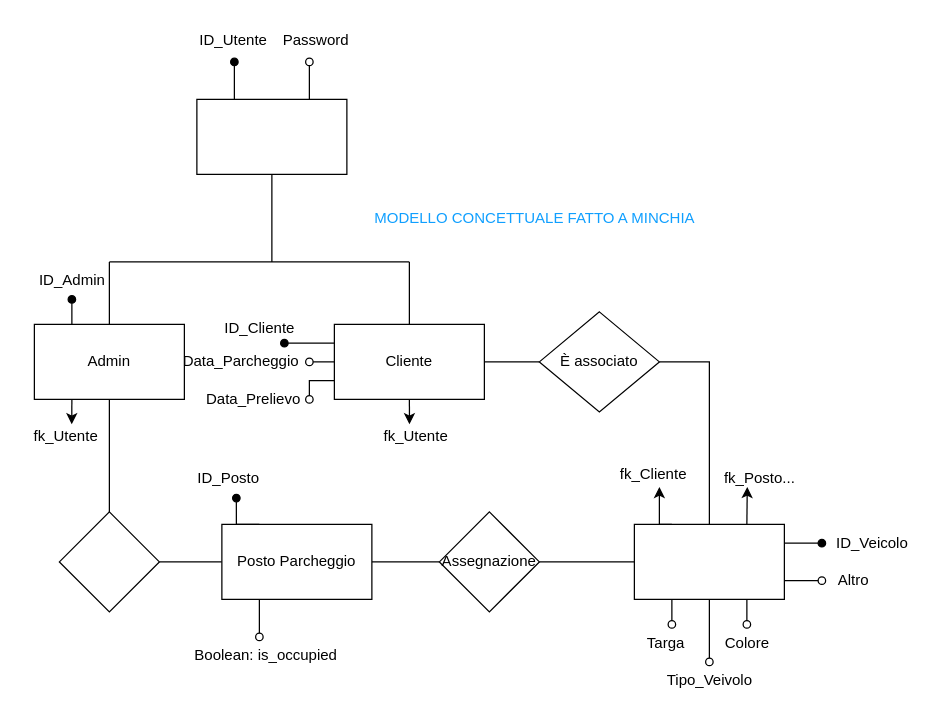
This 943x720 diagram has some shape labels left out. The centre of each missing label's shape, as x and y in pixels:
"Controlla" belongs at (108,561).
"Utente" belongs at (271,136).
"Veicolo" belongs at (708,561).
